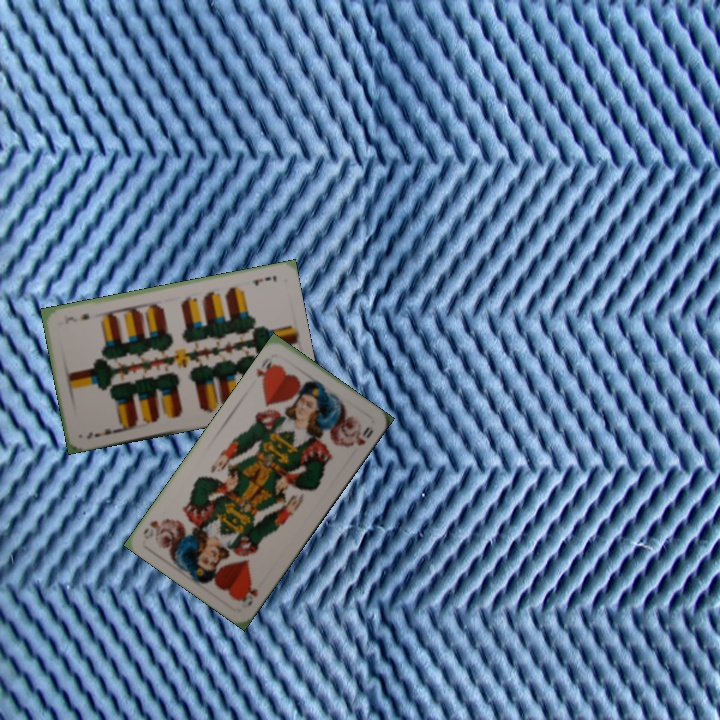E7: (82, 424, 120, 441), (249, 272, 279, 288)
HO: (252, 354, 278, 387), (235, 579, 261, 609)
